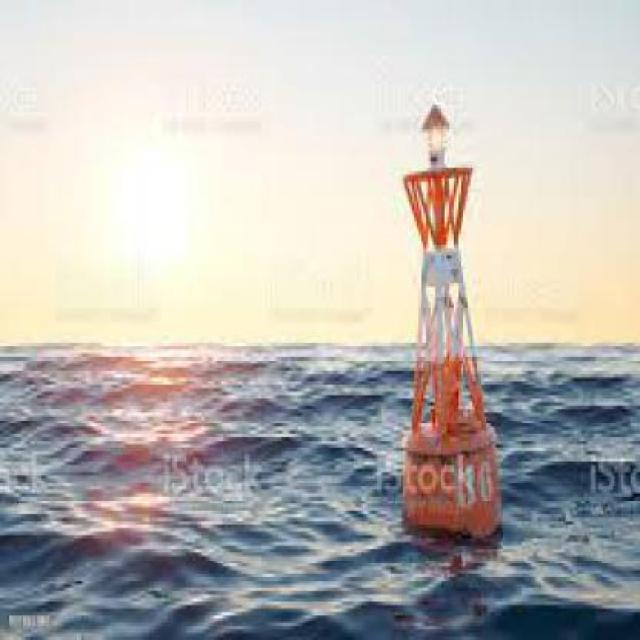buoy: (383, 95, 514, 550)
